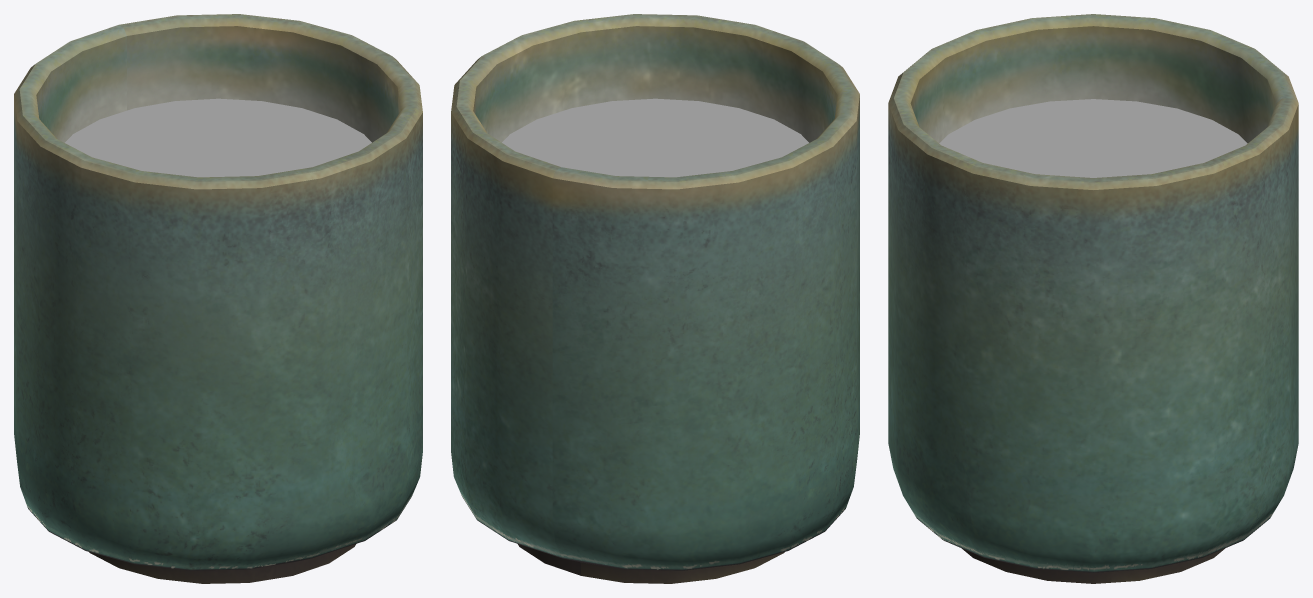
File: MD_yunomi01.fbx
The picture shows the model from 3 angles, left to right: view 1: azimuth 30°, elevation 25°; view 2: azimuth 150°, elevation 25°; view 3: azimuth 270°, elevation 25°; orthographic projection.
Visible parts, largest first — view 1: yunomi01, pDisc1; view 2: yunomi01, pDisc1; view 3: yunomi01, pDisc1.
Boxes of the visible parts, <box> form: yunomi01: <box>14,14,422,583</box>; pDisc1: <box>65,98,371,177</box>; yunomi01: <box>451,14,859,583</box>; pDisc1: <box>502,98,808,177</box>; yunomi01: <box>888,14,1298,583</box>; pDisc1: <box>939,99,1247,177</box>.
Size of the model in its own units: 7 by 7.95 by 7.
2 materials, 1 textured.
